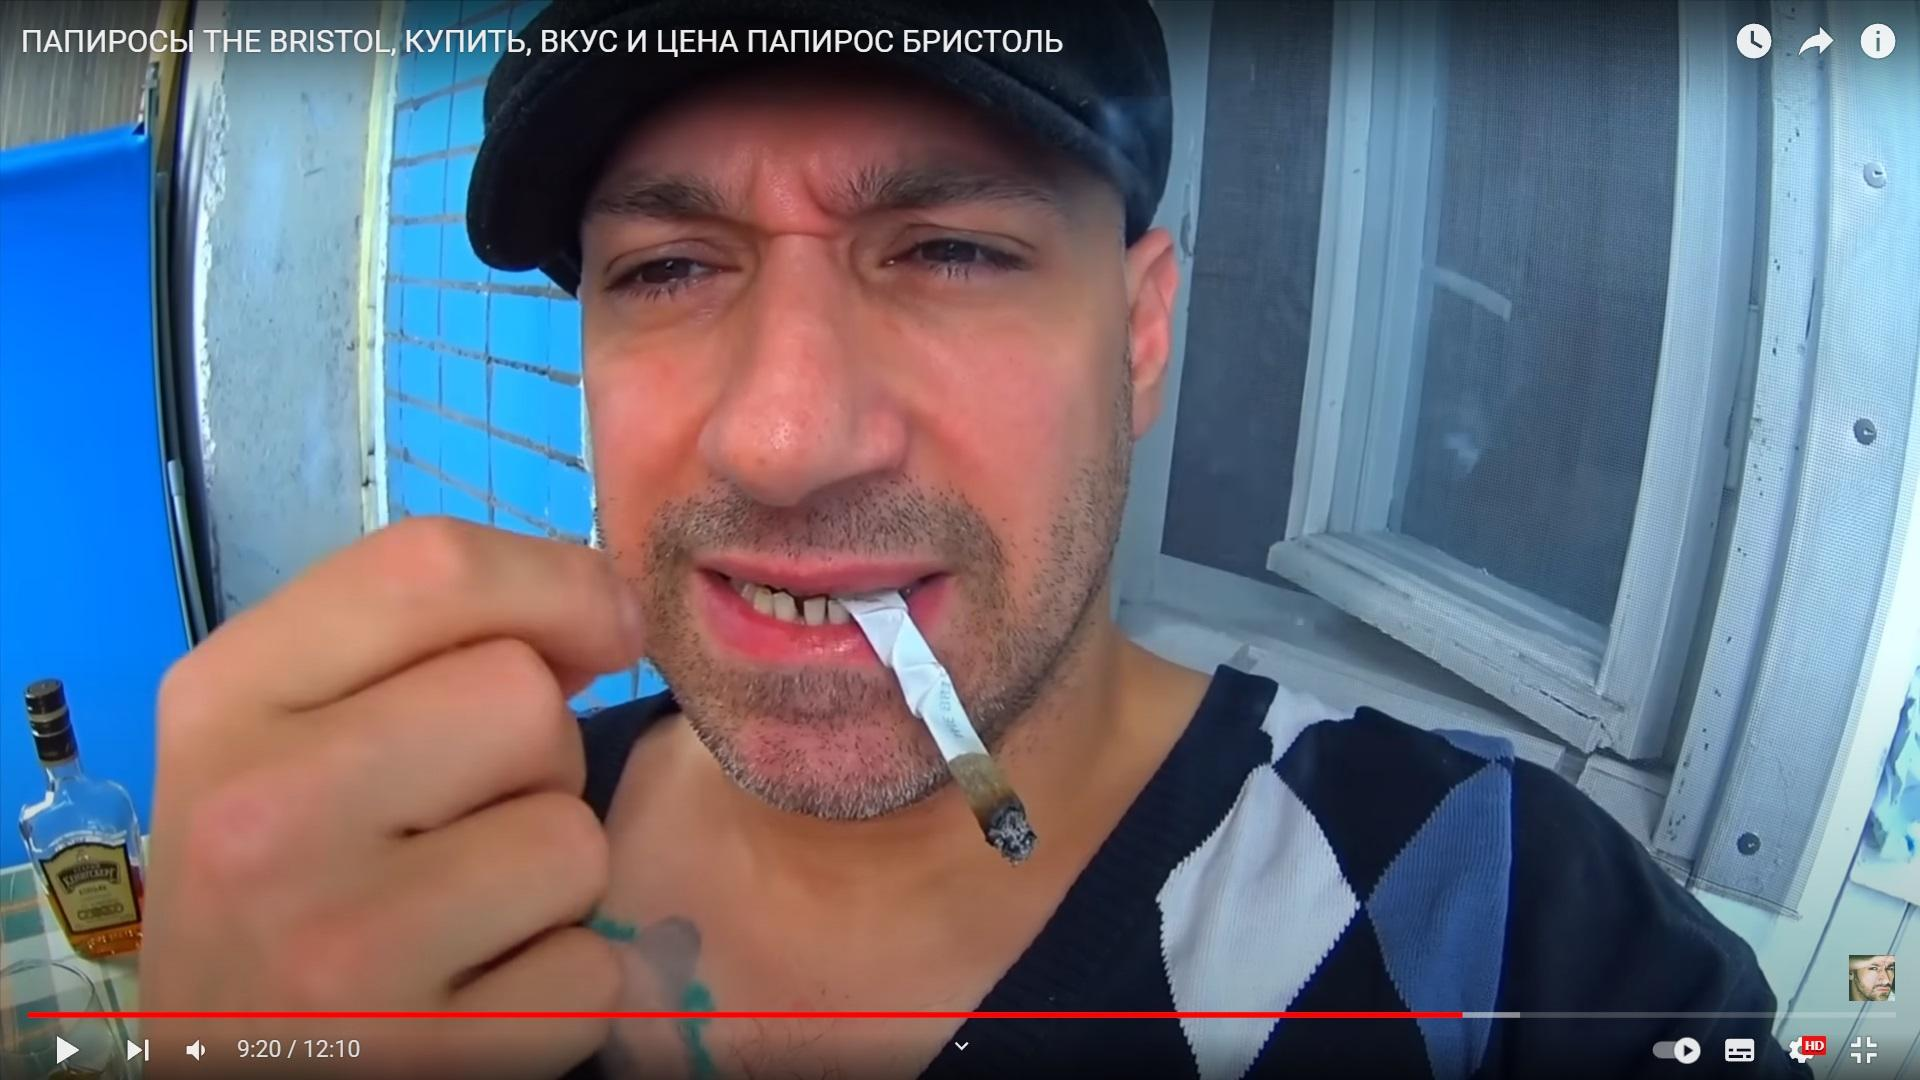cigarette: (836, 587, 1038, 864)
